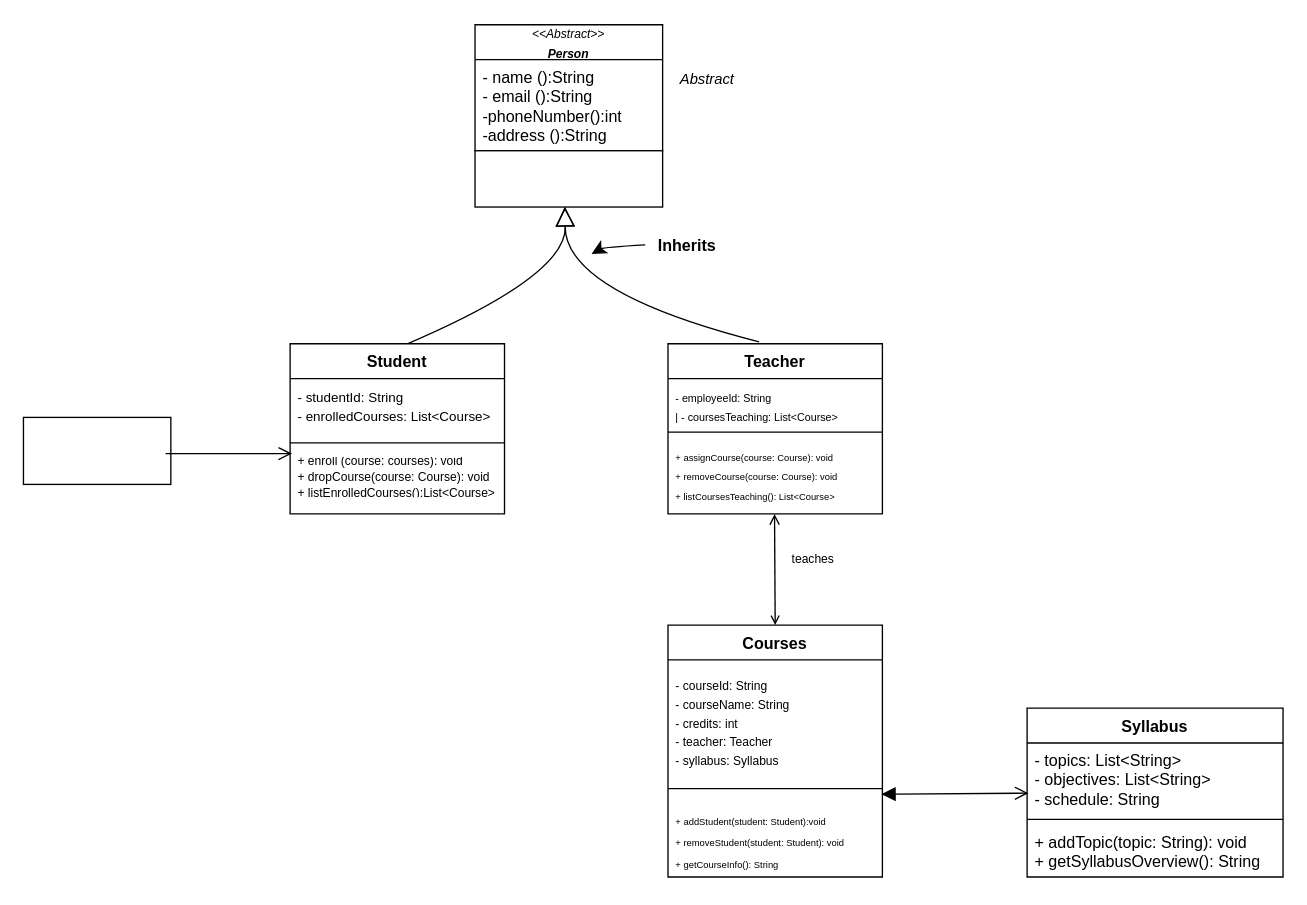
The diagram is 1307 pixels wide and 905 high, and some of its shapes have lost their labels. The shapes that lost their labels are listed below. From the top down, each one's centre as x and y in pixels, then its label:
At [568,178]: "+getDetails():String +updateContactInfo():String: void".
At [96,450]: "«interface» Enrollable".
